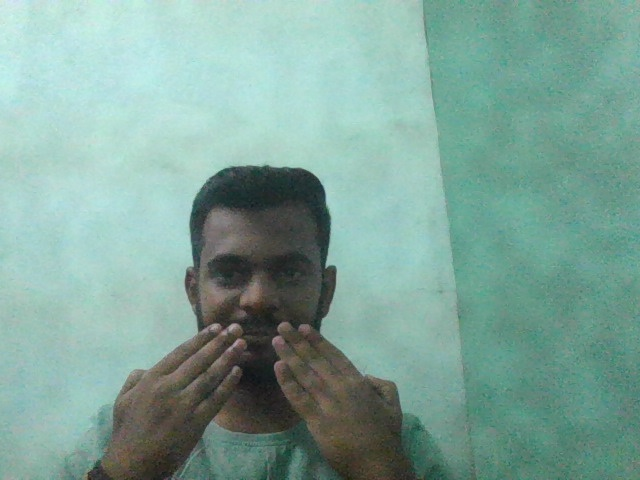thankyou: (109, 318, 408, 460)
